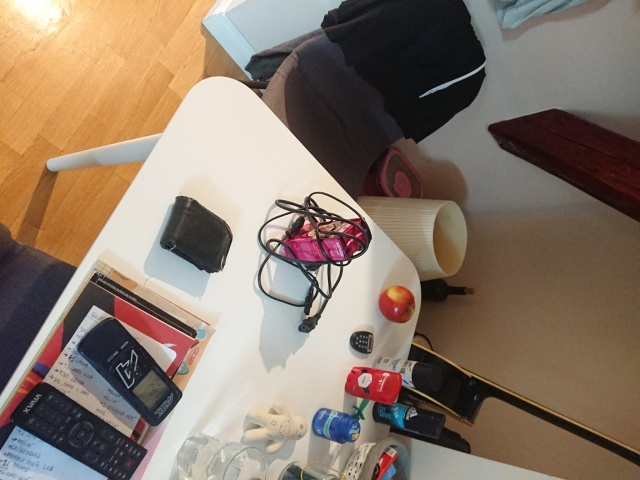Barcaffe Classic Original 225g: (282, 215, 373, 263)
